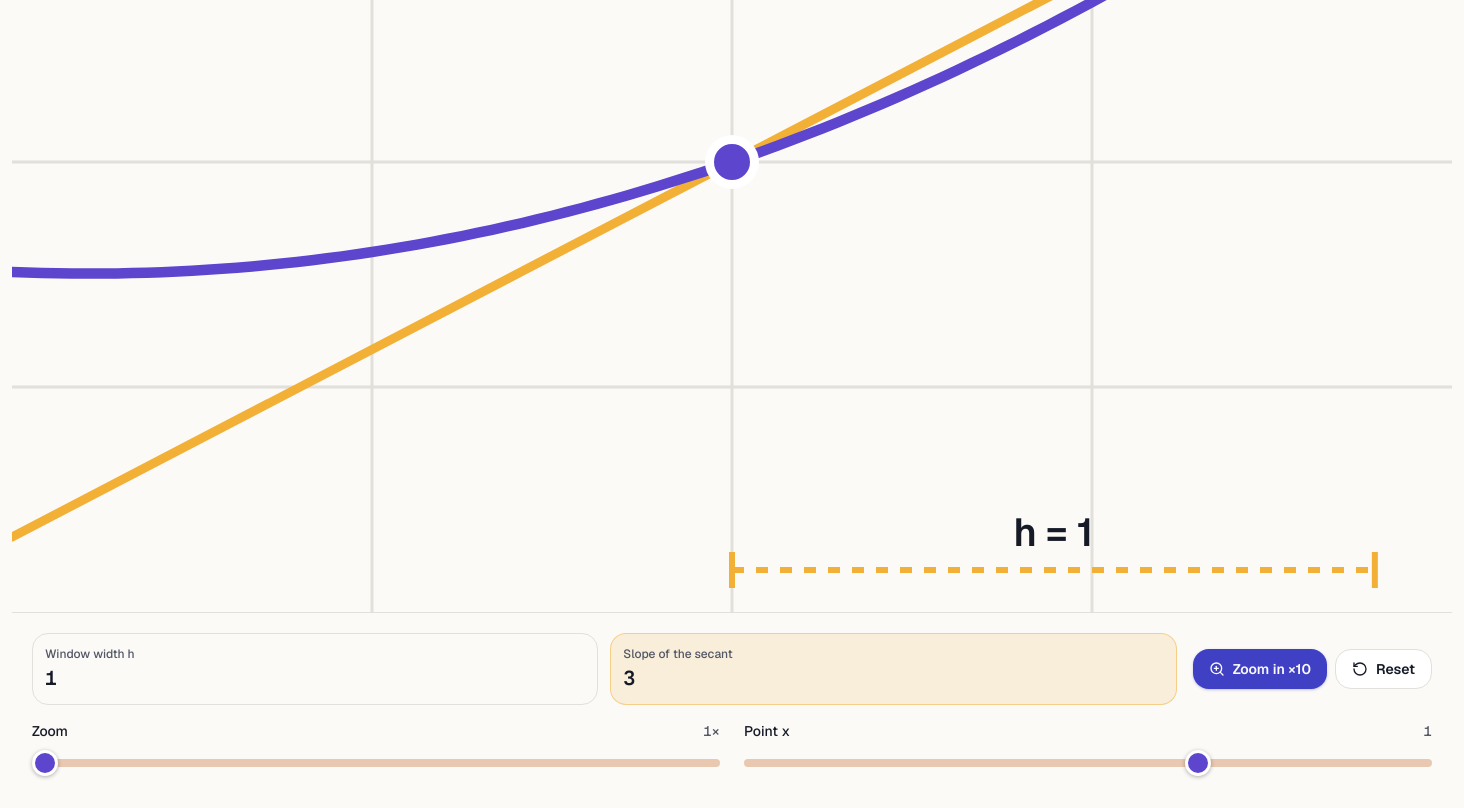
Test: TangentZoom › approaches the derivative as you zoom in: 3 → 2.1 → 2.01 → 2.001
(page scrolled)
Step 1. Click the button "Zoom in ×10" → coordinates (1260, 669), box [1193, 649, 1327, 689]
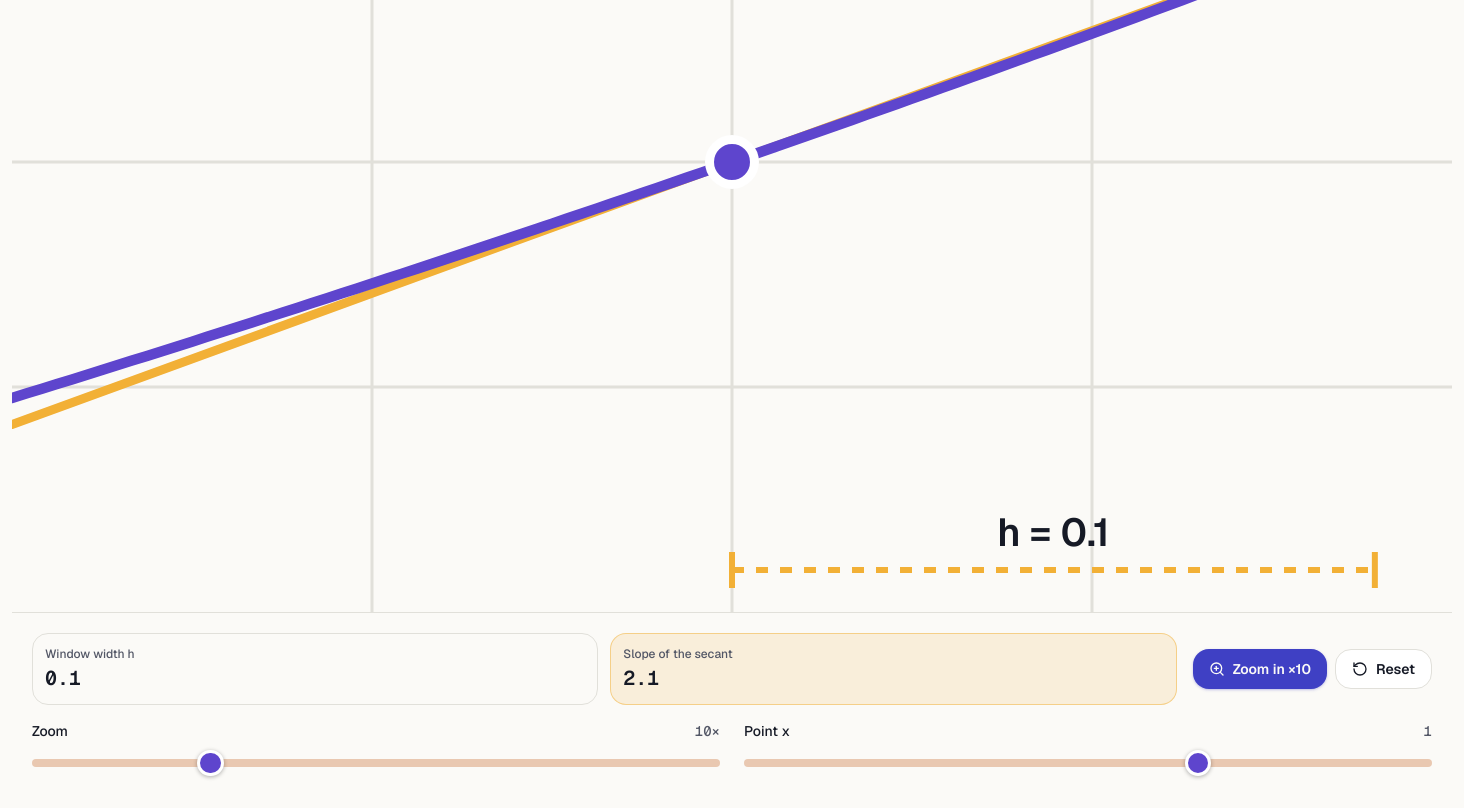
Step 2. Click the button "Zoom in ×10" → coordinates (1260, 669), box [1193, 649, 1327, 689]
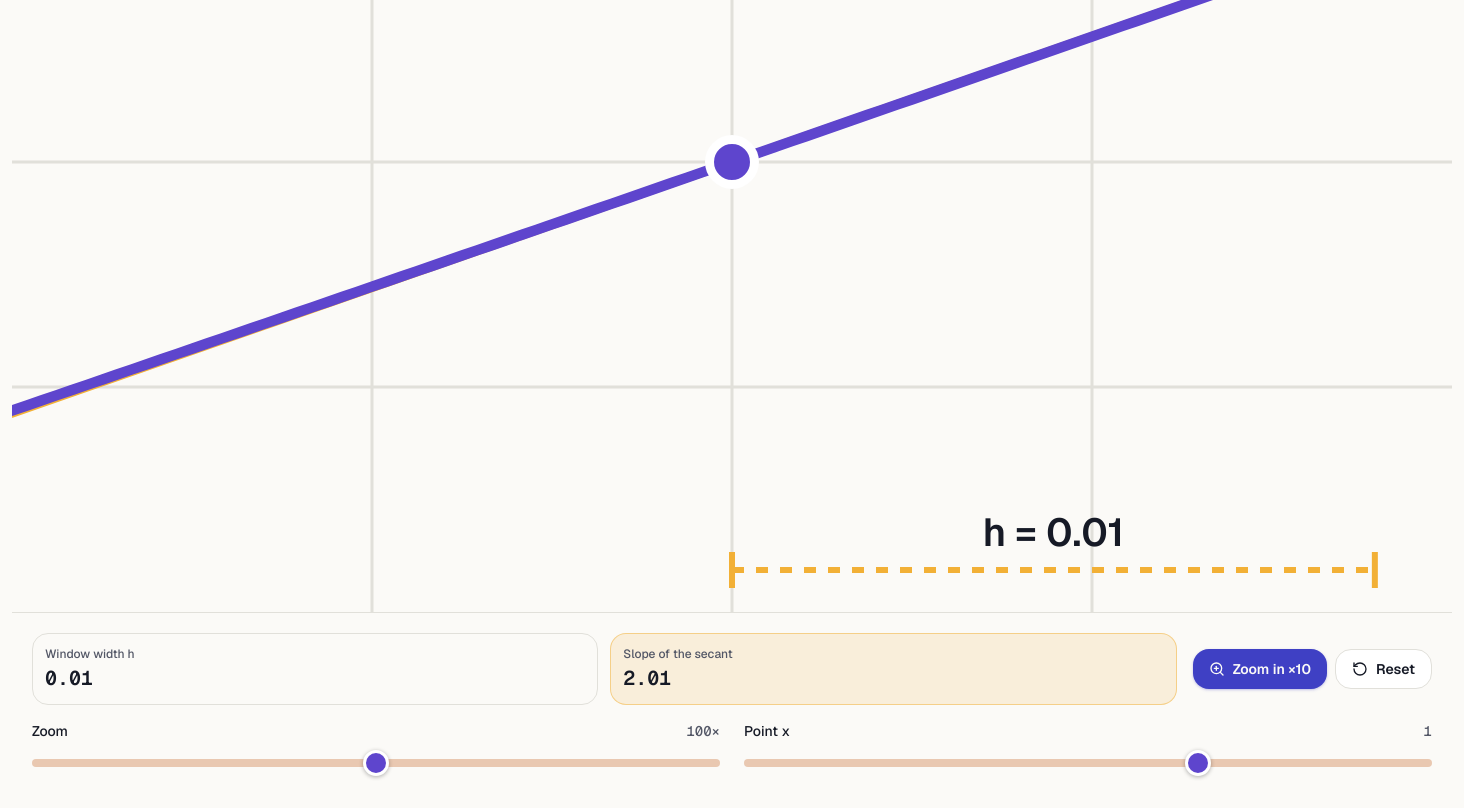
Step 3. Click the button "Zoom in ×10" → coordinates (1260, 669), box [1193, 649, 1327, 689]
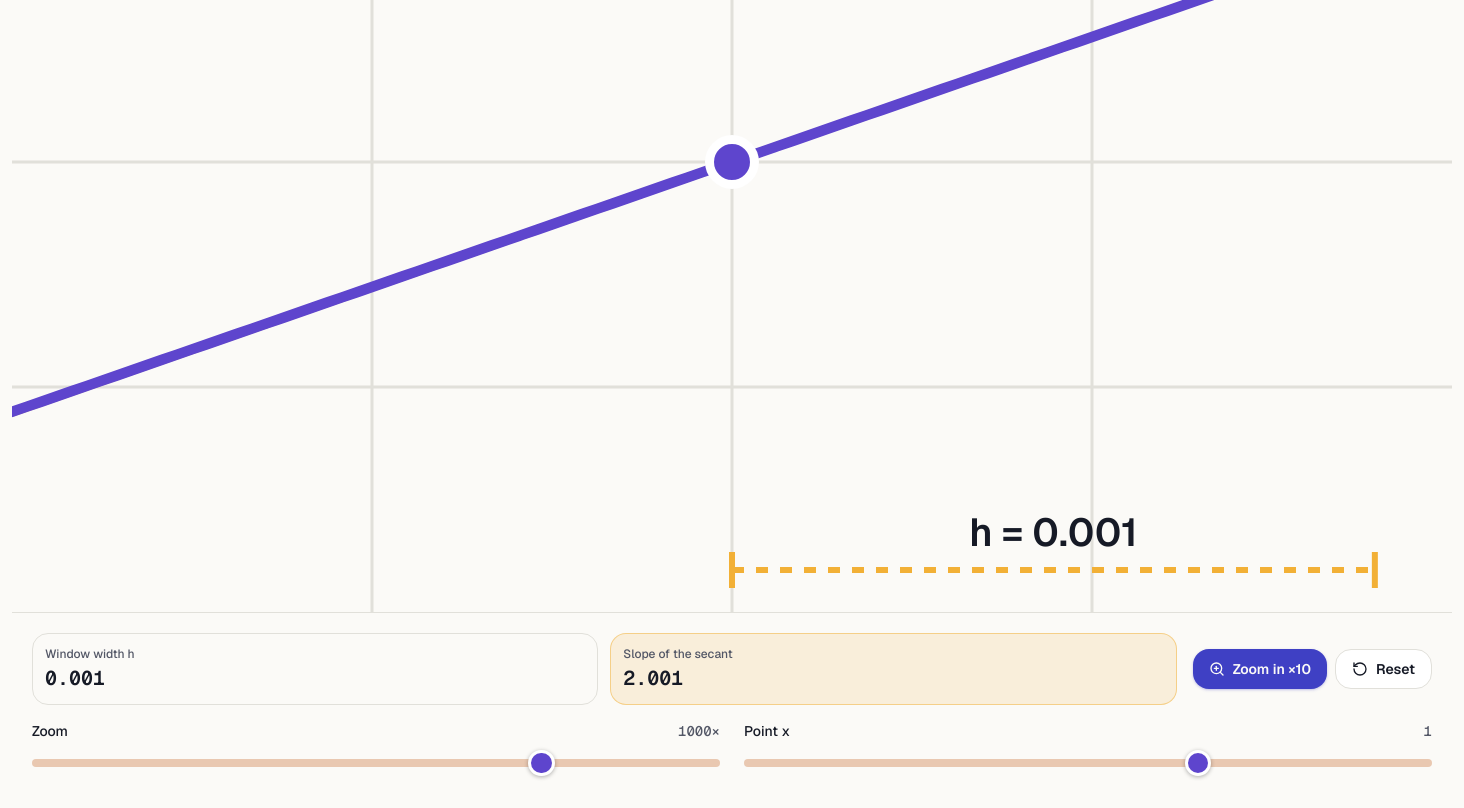
Step 4. Click the button "Zoom in ×10" → coordinates (1260, 669), box [1193, 649, 1327, 689]
(page scrolled)
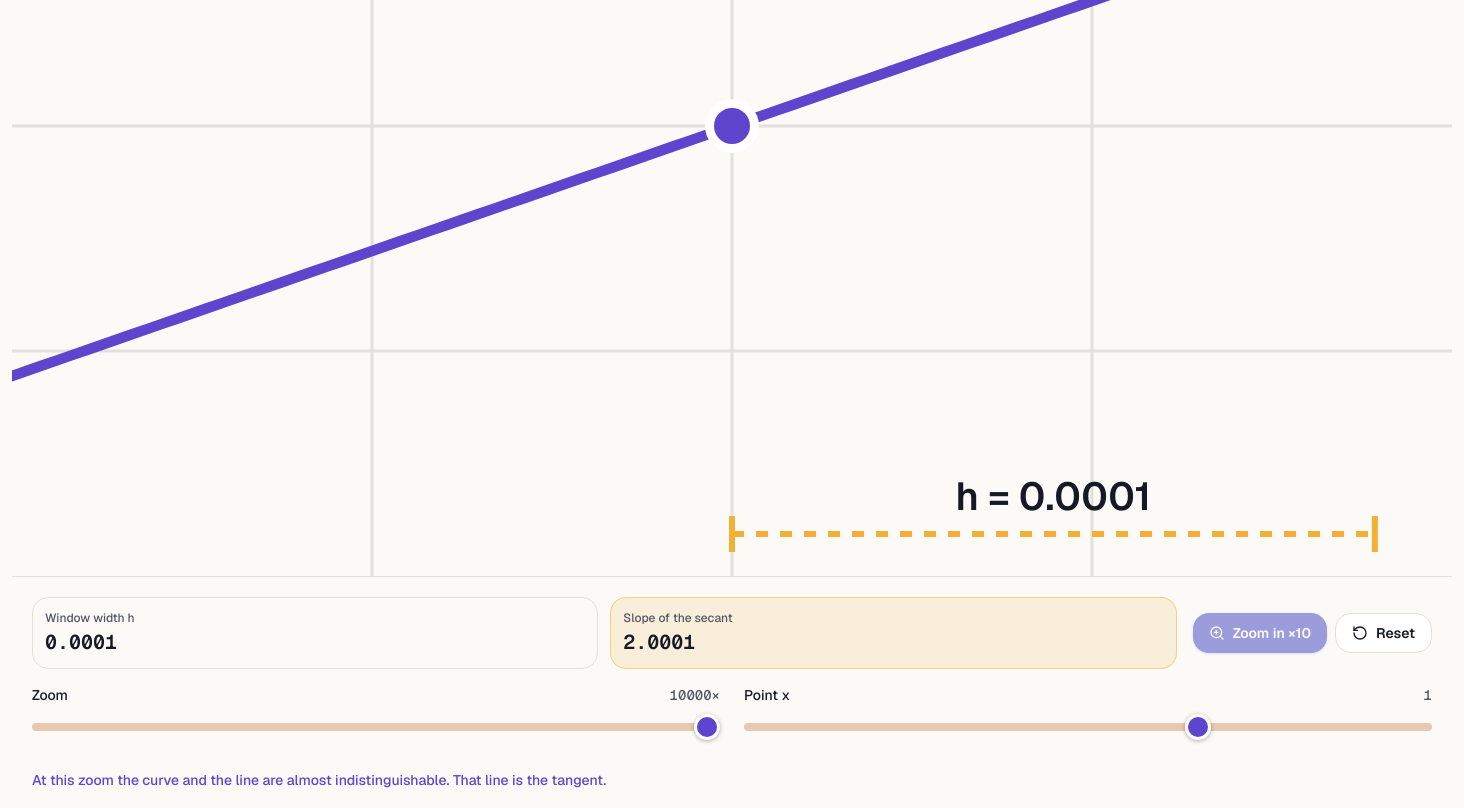
Result: the text "almost indistinguishable" is shown at [32, 771, 606, 789]
Result: the button "Zoom in ×10" is disabled at [1193, 613, 1327, 653]
